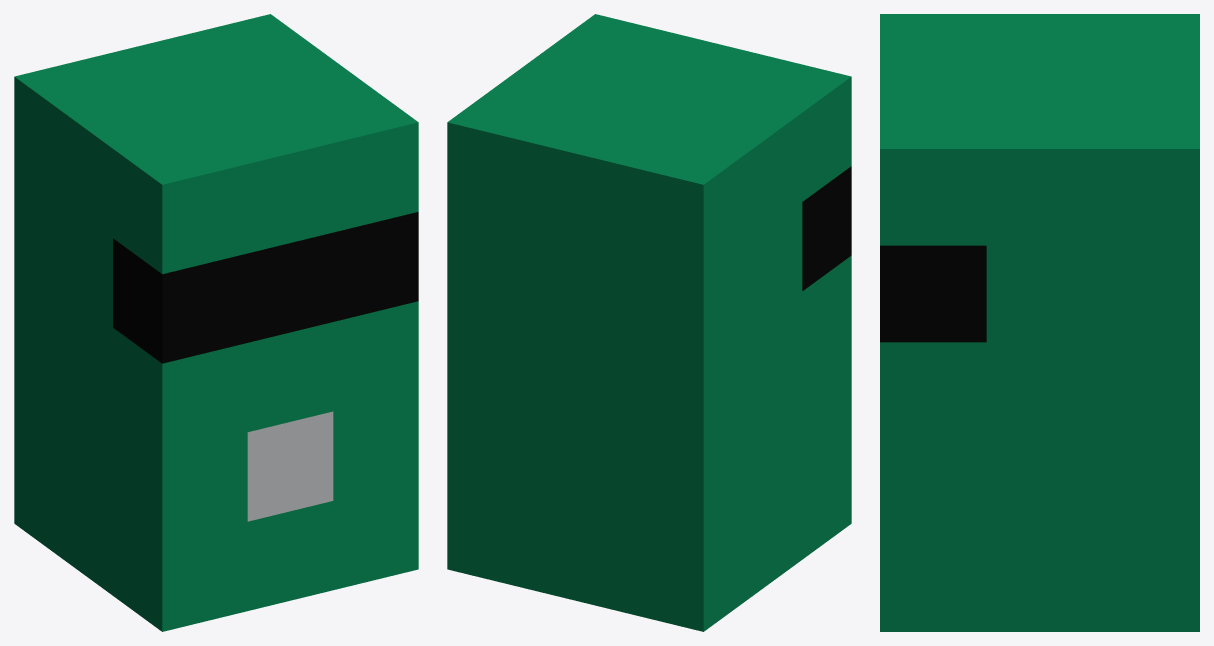
Rendered from trashcan_b.obj.
3 renders of one model, left to right at view 1: azimuth 30°, elevation 25°; view 2: azimuth 150°, elevation 25°; view 3: azimuth 270°, elevation 25°, orthographic. The views are drawn at different scales.
Bounding box in the file's own units: 0.3 × 0.5 × 0.3.
Materials: 1 (1 with a texture image).
